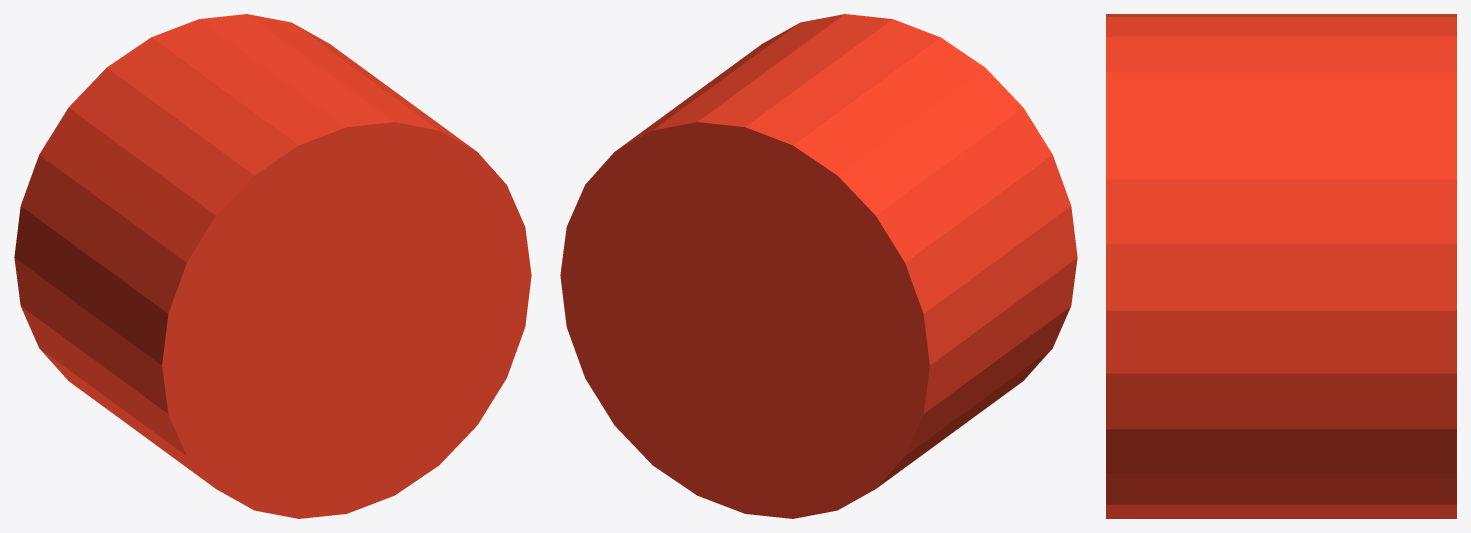
Rendered from alarm_ring.obj.
The picture shows the model from 3 angles, left to right: view 1: azimuth 30°, elevation 25°; view 2: azimuth 150°, elevation 25°; view 3: azimuth 270°, elevation 25°; orthographic projection. The views are drawn at different scales.
Size of the model in its own units: 0.156 by 0.156 by 0.108.
